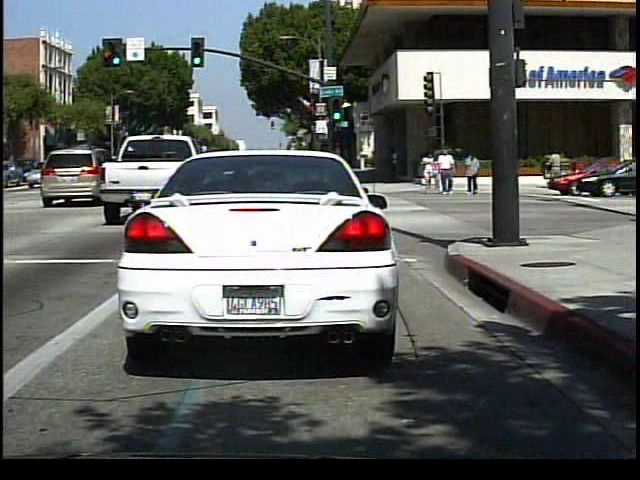person: (463, 147, 485, 196), (437, 145, 458, 196), (419, 148, 440, 197), (544, 146, 566, 191)
